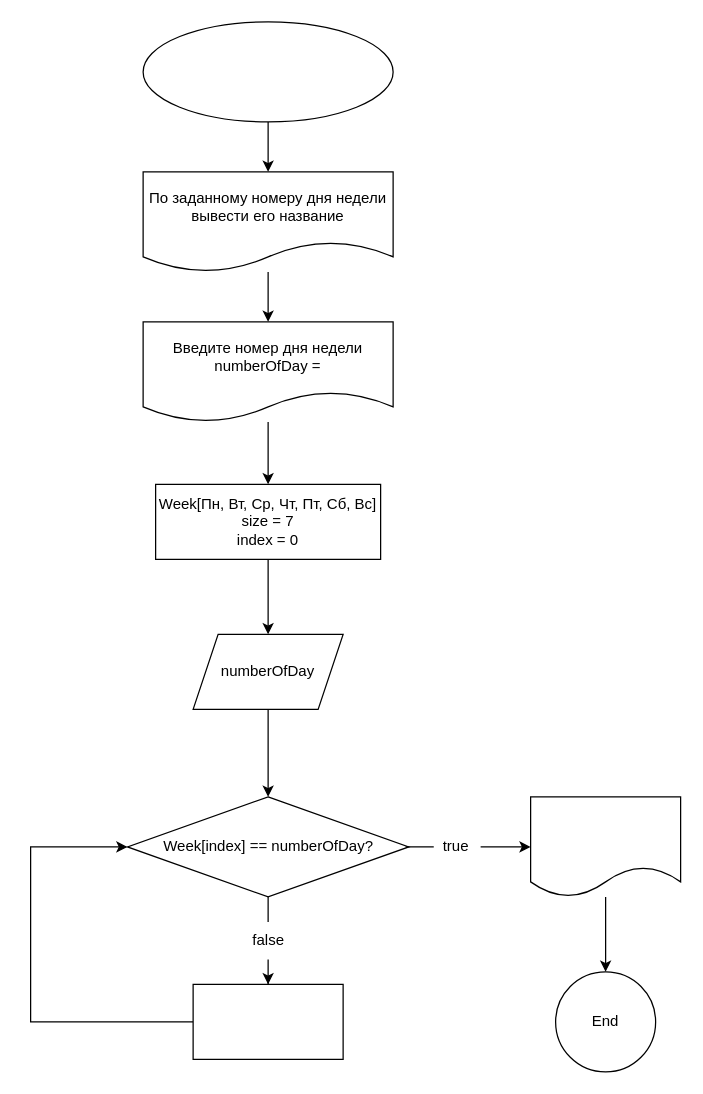
Some shapes in this 703 by 1094 pixel diagram are drawn without their labels. The centre of each missing label's shape, as x and y in pixels:
"index = index + 1" belongs at point (267, 1021).
"Start" belongs at point (267, 71).
"Week[index]" belongs at point (605, 846).
